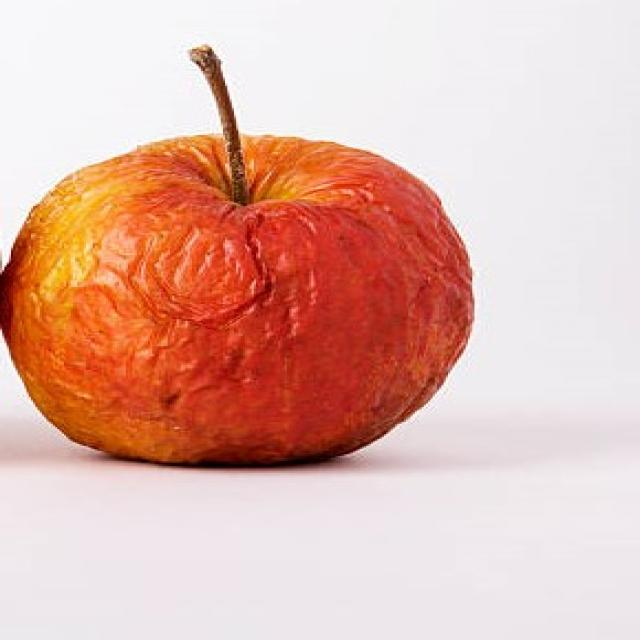overripe: (5, 122, 488, 467)
